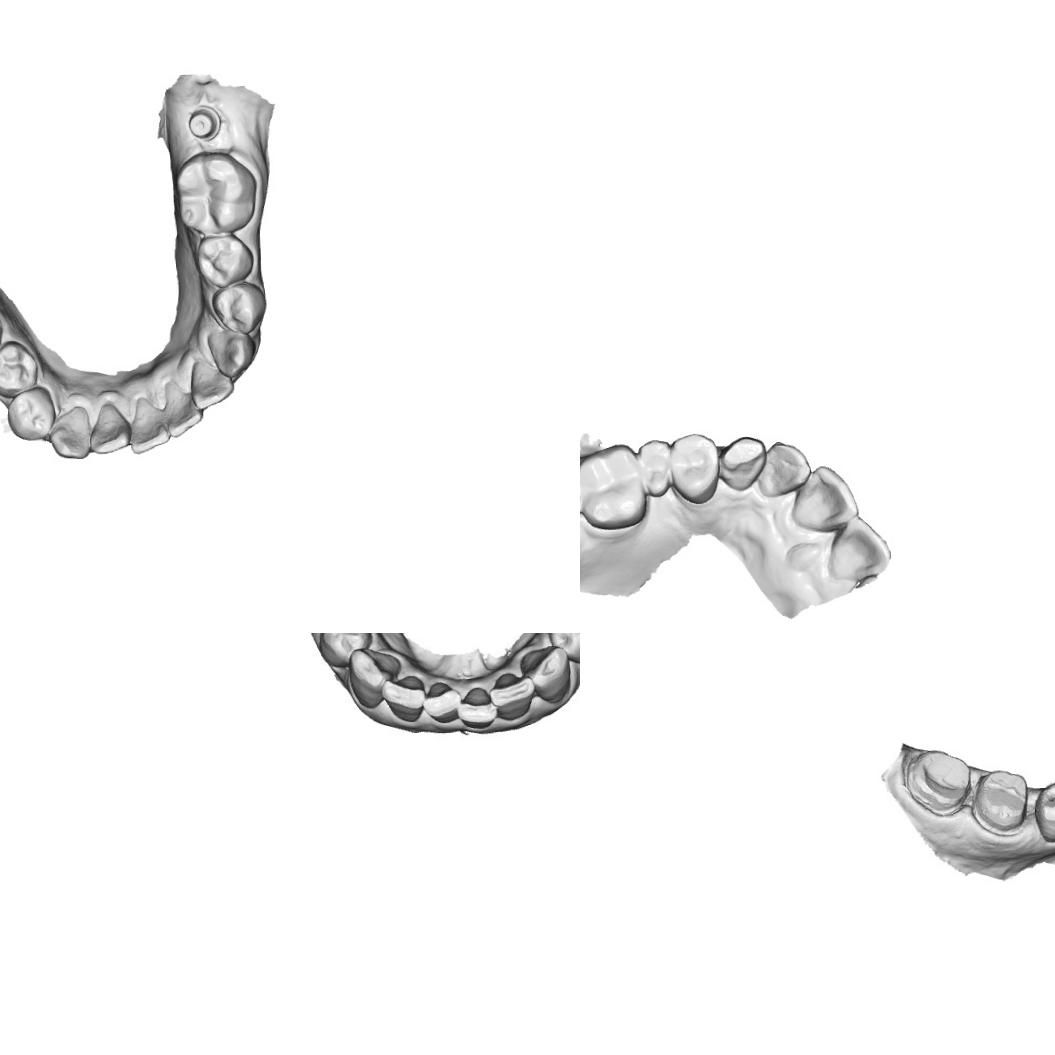canine: (346, 645, 402, 709), (718, 433, 768, 492), (204, 329, 256, 380), (46, 404, 92, 460), (524, 647, 566, 694)
crown: (902, 744, 973, 820), (972, 761, 1032, 836)
implant: (186, 104, 222, 142)
incisor: (789, 462, 860, 534), (824, 514, 893, 583), (756, 439, 812, 498), (127, 393, 170, 456), (161, 380, 206, 438), (188, 358, 236, 412), (87, 400, 132, 455), (386, 676, 430, 721), (422, 679, 460, 727), (493, 677, 537, 718), (461, 686, 495, 729)
molar: (172, 148, 259, 236), (580, 442, 648, 532)
premolar: (667, 430, 721, 505), (194, 234, 256, 289), (210, 280, 268, 336), (5, 384, 57, 442), (0, 338, 40, 400), (636, 437, 672, 500), (1031, 777, 1055, 845), (321, 633, 367, 658), (552, 633, 580, 660)
